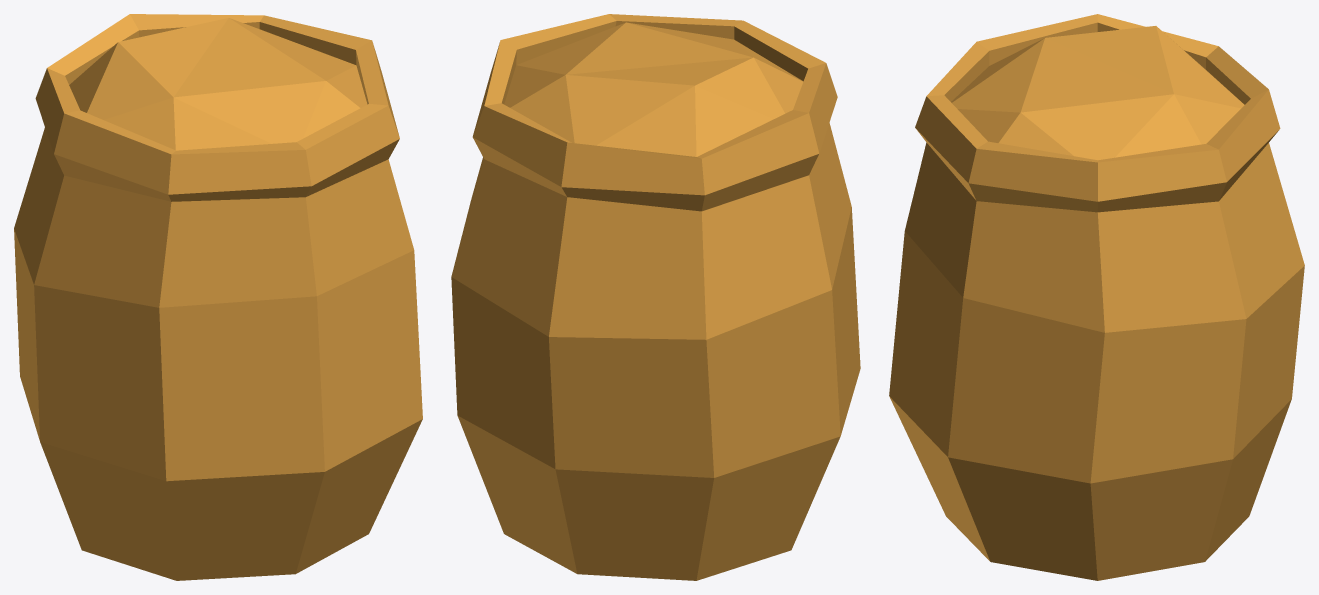
The model's file is egypt-egypt-spice-big.glb.
3 views of the same model, side by side, from view 1: azimuth 30°, elevation 25°; view 2: azimuth 150°, elevation 25°; view 3: azimuth 270°, elevation 25° (orthographic). The views are drawn at different scales.
Parts seen in each view (by area): view 1: egypt-spice-big; view 2: egypt-spice-big; view 3: egypt-spice-big.
Part boxes in pixels (x1,y1,x2,y2): egypt-spice-big: (14, 14, 422, 580); egypt-spice-big: (451, 14, 860, 580); egypt-spice-big: (889, 14, 1304, 580).
Bounding box in the file's own units: 0.866 × 1.07 × 0.883.
